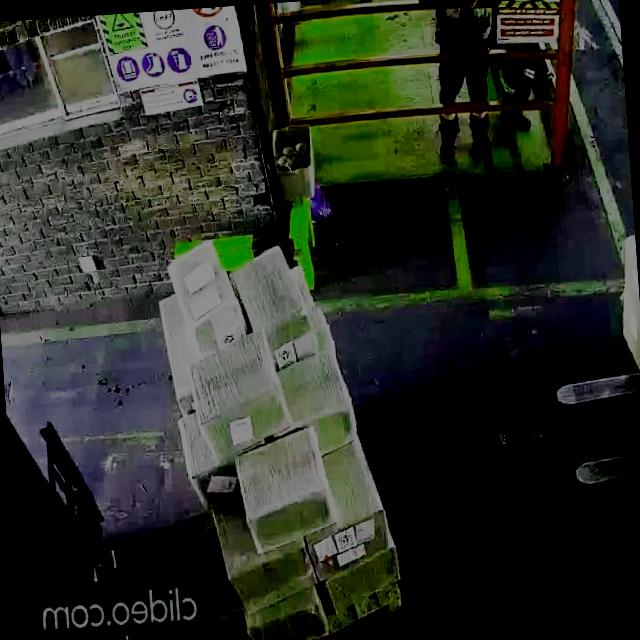Box: (235, 434, 334, 546), (186, 332, 284, 444), (159, 236, 247, 346), (282, 346, 351, 446), (225, 542, 312, 618), (242, 244, 302, 346), (328, 544, 406, 620), (307, 504, 392, 572), (247, 593, 324, 640)
